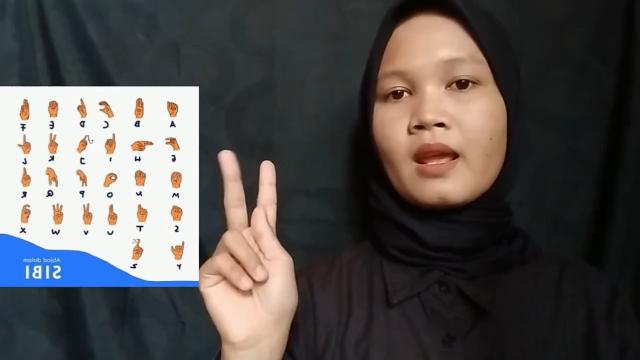K: (200, 144, 310, 360)
